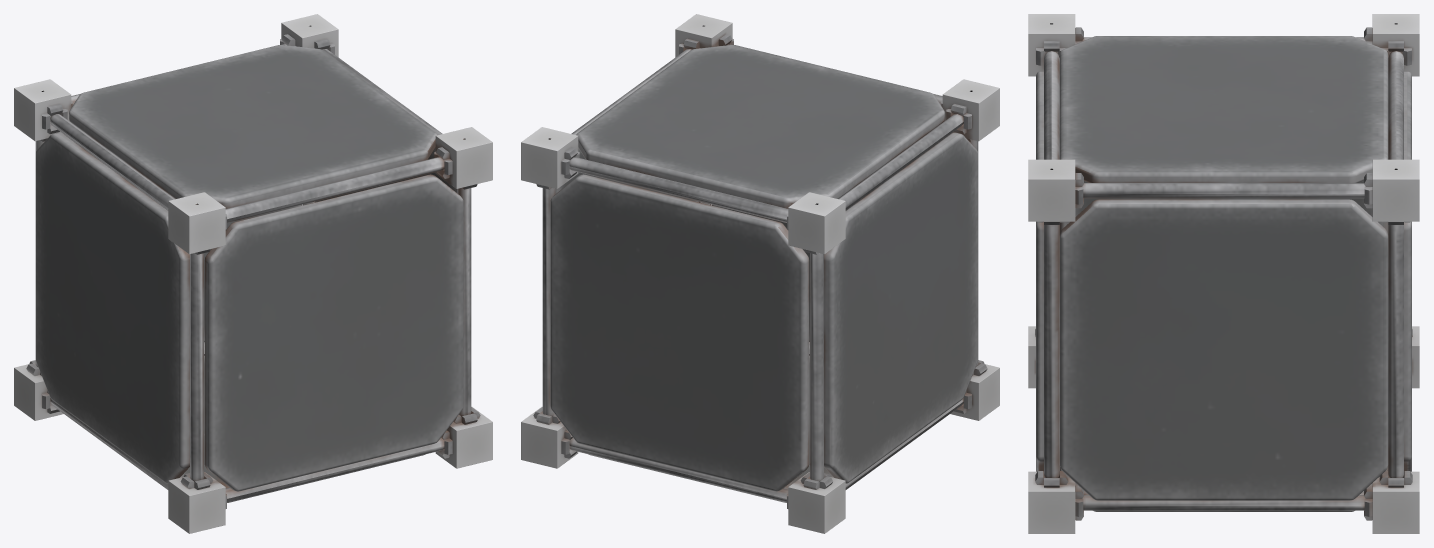
File: SM_PartHullSmall.glb
The picture shows the model from 3 angles, left to right: view 1: azimuth 30°, elevation 25°; view 2: azimuth 150°, elevation 25°; view 3: azimuth 270°, elevation 25°; orthographic projection. The views are drawn at different scales.
Parts seen in each view (by area): view 1: SM_PartHullSmall; view 2: SM_PartHullSmall; view 3: SM_PartHullSmall.
Boxes of the visible parts, x1,y1,x2,y2 form: SM_PartHullSmall: (14,14,492,533); SM_PartHullSmall: (521,14,999,533); SM_PartHullSmall: (1028,14,1419,533).
Bounding box in the file's own units: 0.5 × 0.5 × 0.5.
5 materials, 5 textured.
